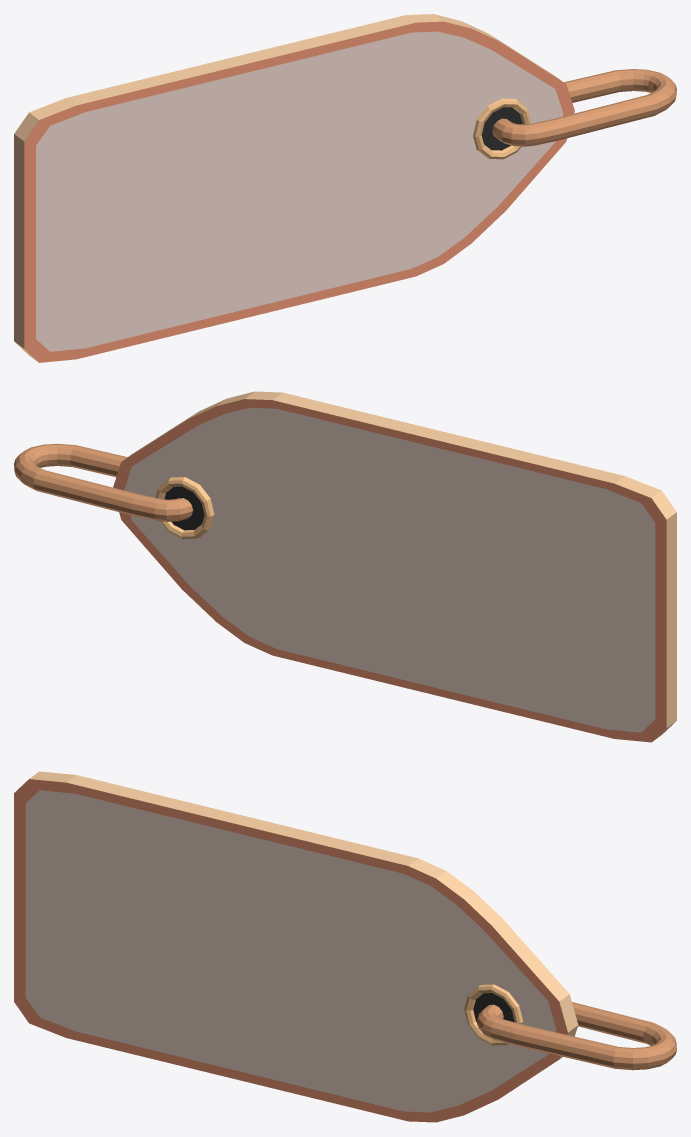
The model's file is cashierrun.tag.fbx.
3 views of the same model, one above another, from view 1: azimuth 30°, elevation 25°; view 2: azimuth 150°, elevation 25°; view 3: azimuth 330°, elevation 25° (orthographic).
Visible parts, largest first — view 1: cashierrun_pricetag; view 2: cashierrun_pricetag; view 3: cashierrun_pricetag.
Part boxes in pixels (x1,y1,x2,y2): cashierrun_pricetag: [14, 14, 676, 362]; cashierrun_pricetag: [14, 391, 676, 742]; cashierrun_pricetag: [14, 771, 676, 1122].
Size of the model in its own units: 1.89 by 0.7039 by 0.2345.
